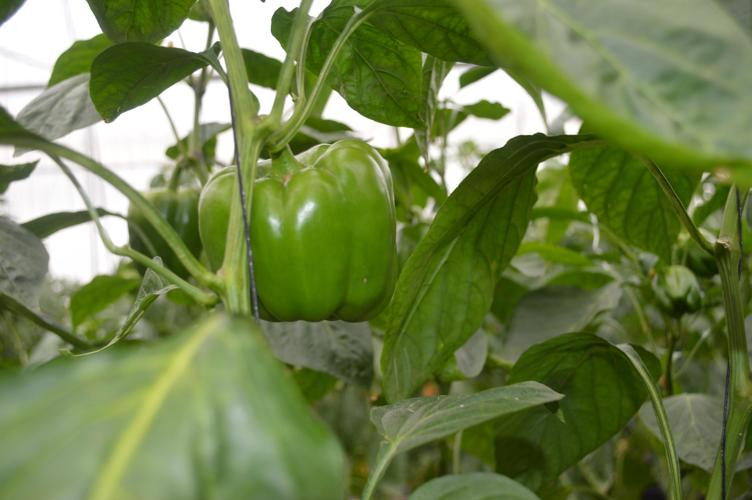BellPepper: (196, 141, 395, 324), (124, 188, 200, 280)
